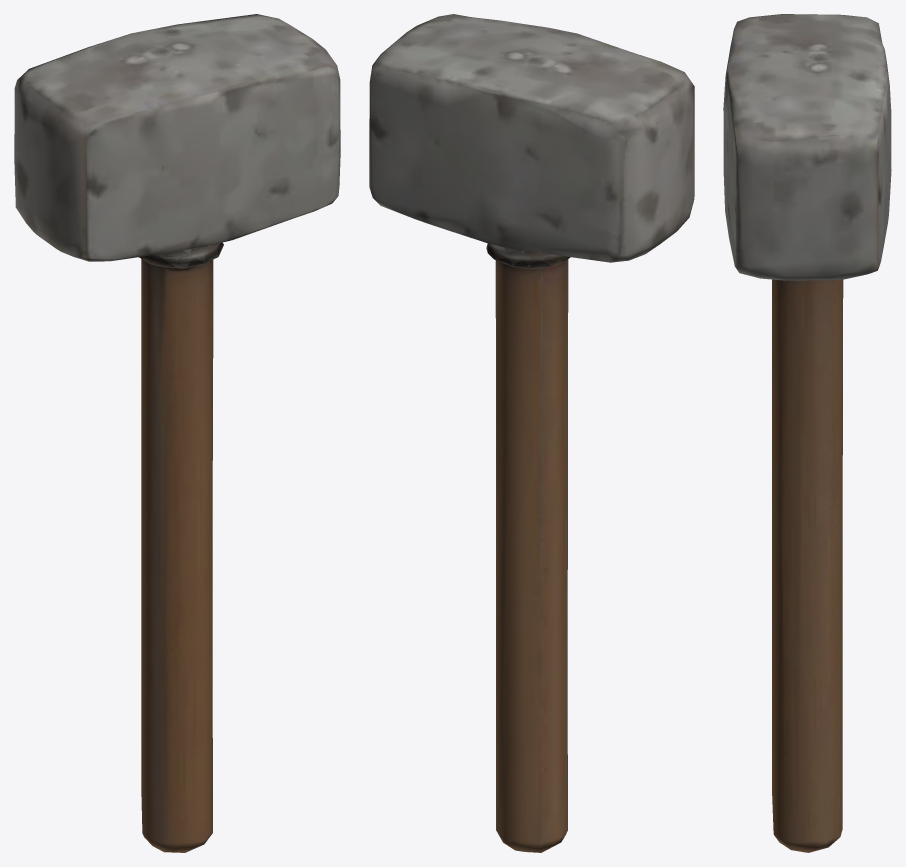
The model's file is wpn_hammer.glb.
The picture shows the model from 3 angles, left to right: view 1: azimuth 30°, elevation 25°; view 2: azimuth 150°, elevation 25°; view 3: azimuth 270°, elevation 25°; orthographic projection.
Bounding box in the file's own units: 0.7349 × 2 × 0.3894.
1 material, 1 textured.
